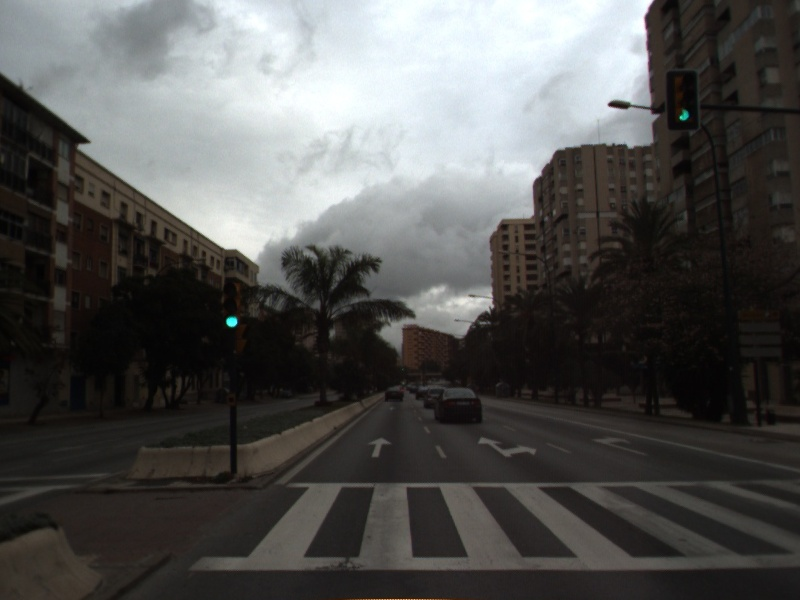RIGHT: (589, 433, 651, 458)
STRAIGHT: (365, 435, 395, 459)
STRAIGHT_RIGHT: (475, 434, 539, 460)
